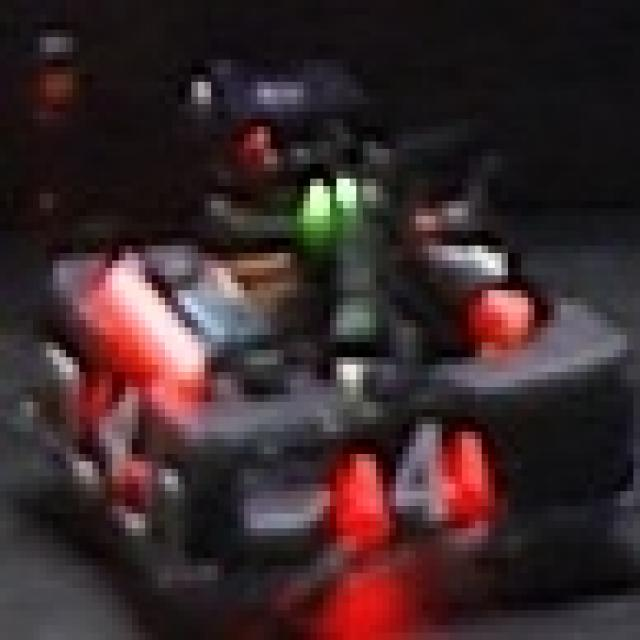R4: (343, 402, 488, 536), (390, 201, 534, 327), (73, 357, 158, 506)
